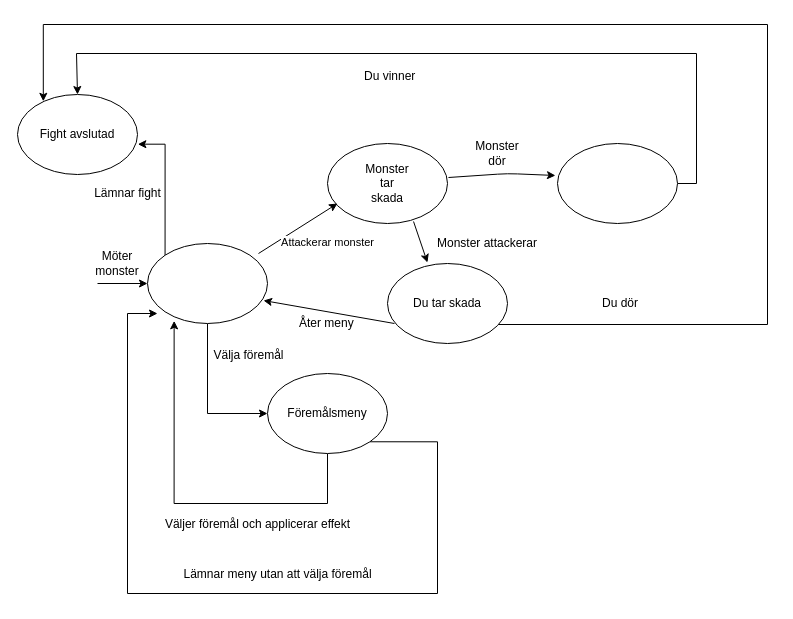
The diagram is 793 pixels wide and 619 high, and some of its shapes have lost their labels. Each missing label, with the box of its shape:
Får Item? XP/Poäng: (556, 142, 678, 224)
Monster meny: (146, 242, 268, 324)
